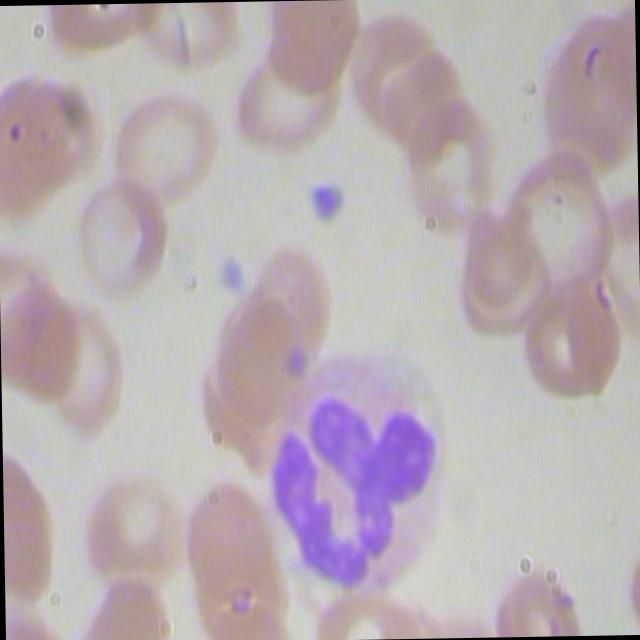Platelets: (308, 174, 348, 227), (210, 241, 250, 294)
RBC: (528, 8, 638, 191), (31, 298, 138, 448), (520, 268, 630, 403), (400, 96, 510, 230), (109, 78, 219, 210), (68, 163, 178, 295), (76, 469, 186, 595), (233, 56, 346, 152), (258, 0, 371, 94)
WBC: (255, 346, 476, 604)
